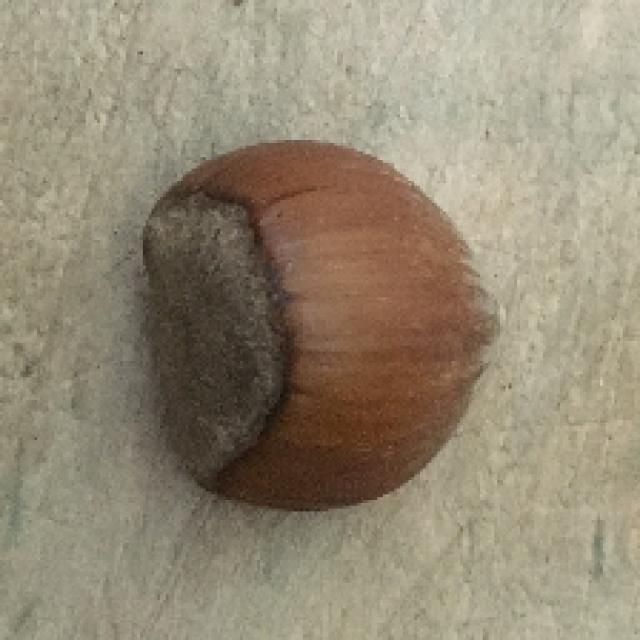qualityHazelnut: (130, 144, 503, 514)
